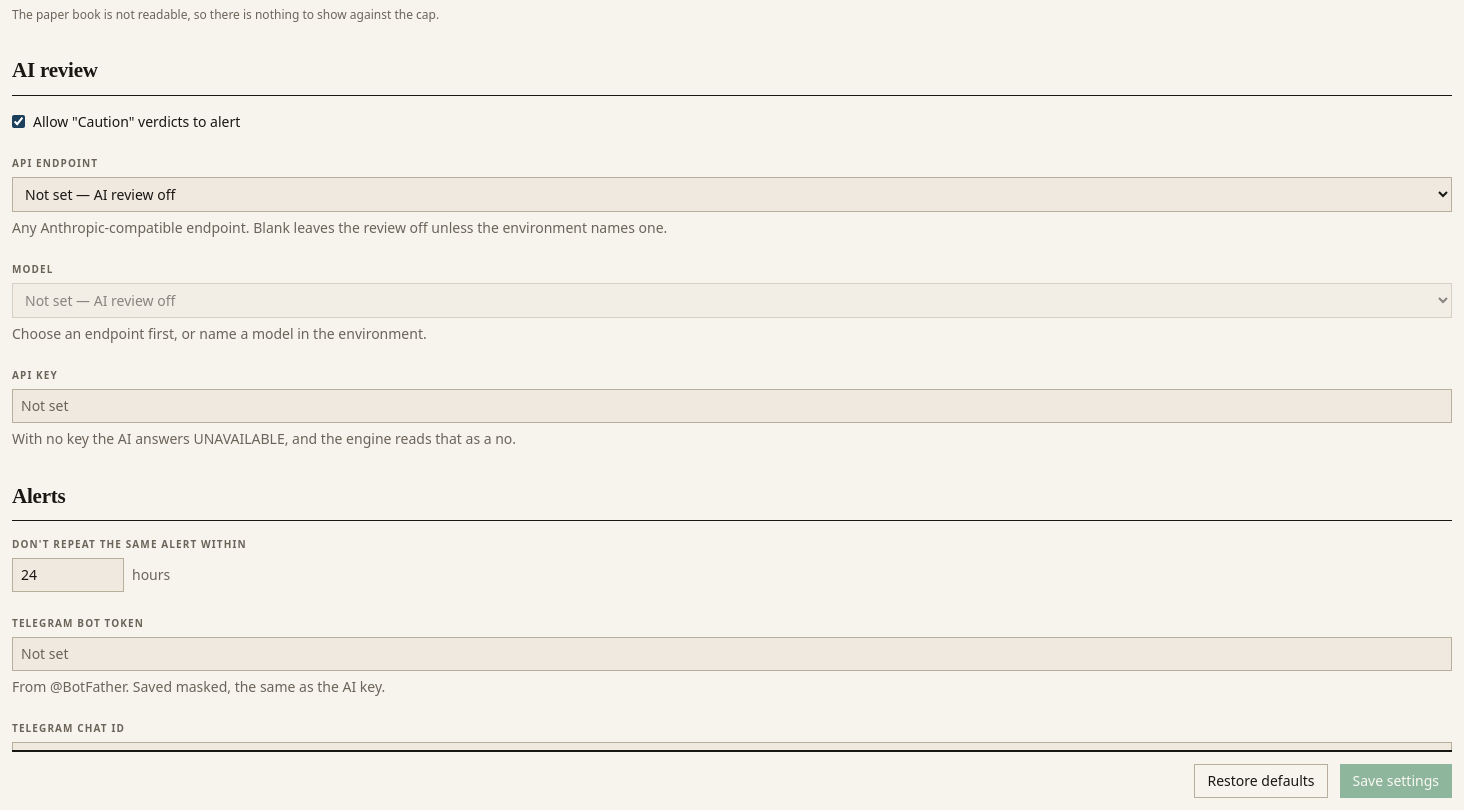
Settings · credentials › says a key is unsaved until Save, so the hint never contradicts the field
(page scrolled)
Expected: the text "With no key the AI answers UNAVAILABLE" is shown, [12,429,516,448]
Type "sk-live-123" into the password field labelled "API key" at (732, 406), box [12,389,1452,423]
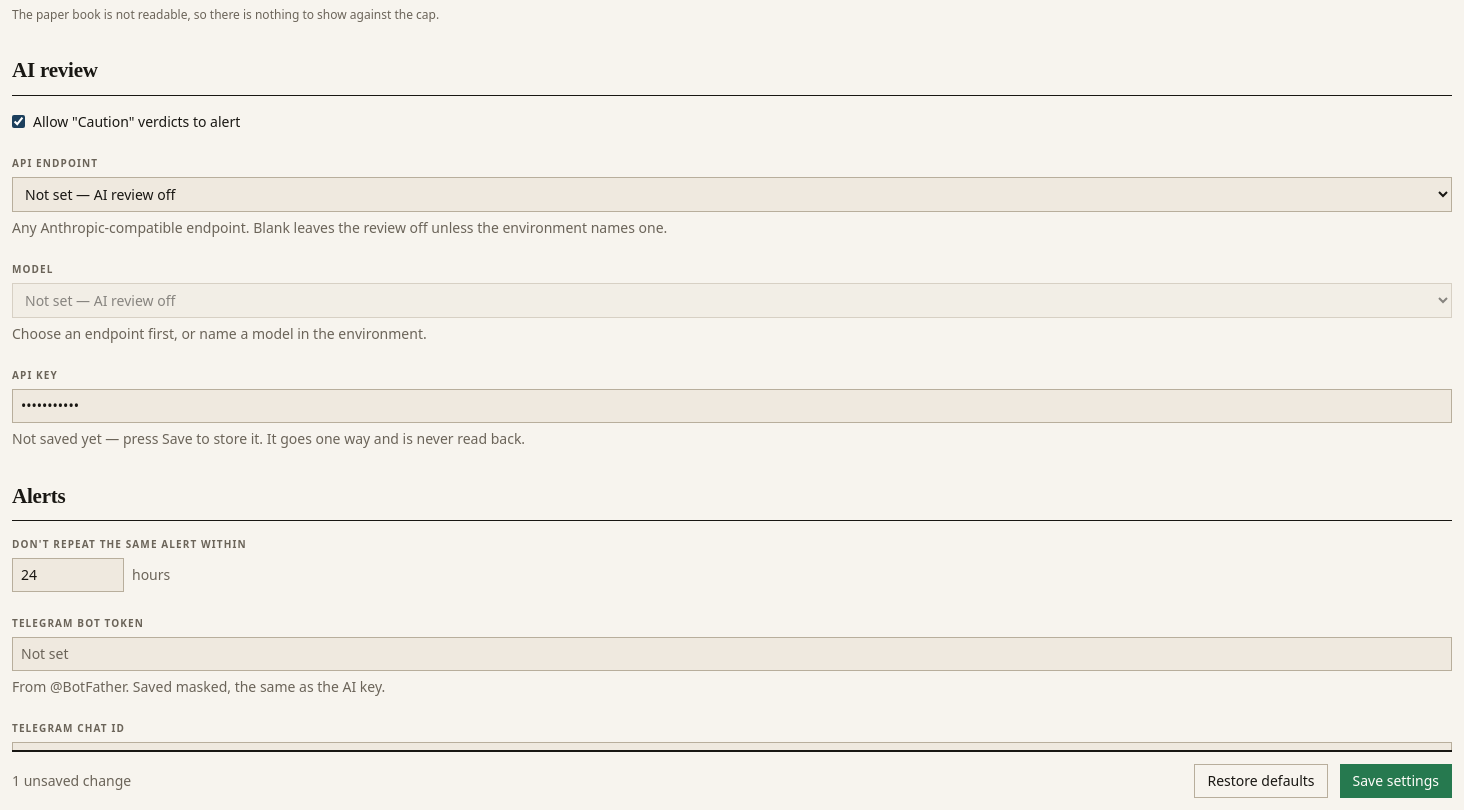
Now the text "Not saved yet" is shown, box [12,429,525,448]
